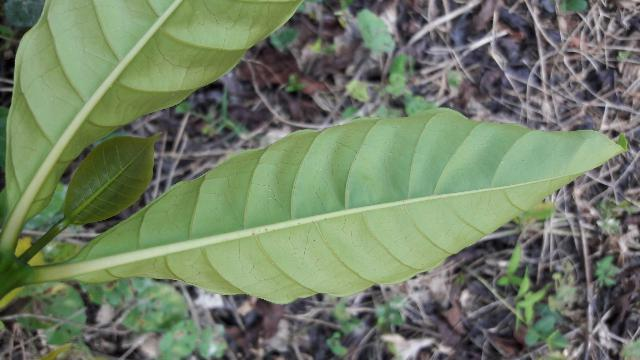healthy: (63, 111, 620, 300)
